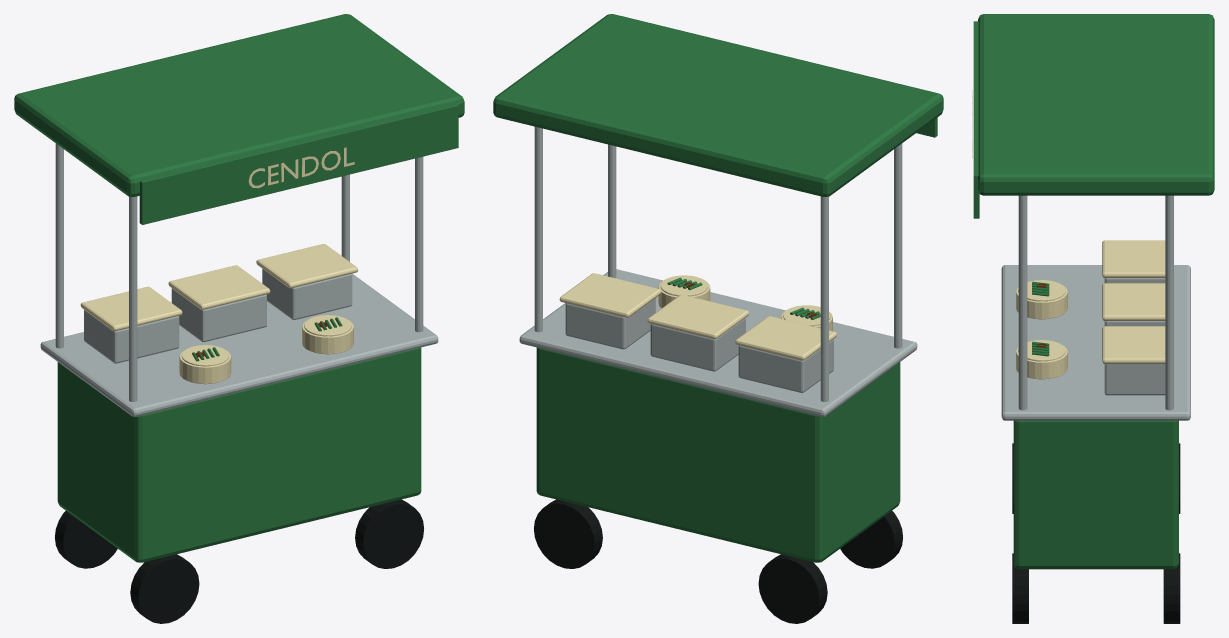
Rendered from edited.glb.
The picture shows the model from 3 angles, left to right: view 1: azimuth 30°, elevation 25°; view 2: azimuth 150°, elevation 25°; view 3: azimuth 270°, elevation 25°; orthographic projection.
Visible parts, largest first — view 1: CART_Cabinet, CANOPY_Roof, COUNTER_Surface, SIGN_Front, WHEEL_Rubber, WHEEL_Rubber.002, BIN_Ingredient.002, BIN_Ingredient.001, BIN_Ingredient, LID_Ingredient.001, LID_Ingredient.002, LID_Ingredient (+10 smaller); view 2: CART_Cabinet, CANOPY_Roof, COUNTER_Surface, WHEEL_Rubber.001, WHEEL_Rubber.003, BIN_Ingredient.002, BIN_Ingredient.001, BIN_Ingredient, LID_Ingredient.001, LID_Ingredient.002, LID_Ingredient, WHEEL_Rubber (+5 smaller); view 3: CANOPY_Roof, CART_Cabinet, COUNTER_Surface, LID_Ingredient, LID_Ingredient.001, LID_Ingredient.002, CANOPY_Post.003, BIN_Ingredient, CANOPY_Post, SIGN_Front, WHEEL_Rubber.003, WHEEL_Rubber.002 (+6 smaller).
Boxes of the visible parts, x1,y1,x2,y2 form: CART_Cabinet: (57,347,421,562); CANOPY_Roof: (14,14,464,196); COUNTER_Surface: (40,273,438,416); SIGN_Front: (139,103,458,224); WHEEL_Rubber: (130,554,199,623); WHEEL_Rubber.002: (355,499,423,568); BIN_Ingredient.002: (171,288,266,342); BIN_Ingredient.001: (84,310,179,363); BIN_Ingredient: (262,269,352,319); LID_Ingredient.001: (168,265,270,309); LID_Ingredient.002: (256,244,358,288); LID_Ingredient: (80,286,182,331); CART_Cabinet: (536,347,900,562); CANOPY_Roof: (493,14,943,196); COUNTER_Surface: (519,269,917,416); WHEEL_Rubber.001: (758,554,827,623); WHEEL_Rubber.003: (534,499,602,568); BIN_Ingredient.002: (650,318,745,371); BIN_Ingredient.001: (738,339,833,392); BIN_Ingredient: (565,298,655,349); LID_Ingredient.001: (647,294,749,339); LID_Ingredient.002: (559,273,661,317); LID_Ingredient: (735,316,837,360); WHEEL_Rubber: (840,511,902,568); CANOPY_Roof: (978,14,1214,195); CART_Cabinet: (1013,420,1178,569); COUNTER_Surface: (1001,265,1190,420); LID_Ingredient: (1102,240,1165,277); LID_Ingredient.001: (1102,283,1165,320); LID_Ingredient.002: (1102,326,1165,363); CANOPY_Post.003: (1018,195,1027,410); BIN_Ingredient: (1104,364,1165,395); CANOPY_Post: (1165,195,1173,410); SIGN_Front: (973,21,979,218); WHEEL_Rubber.003: (1163,553,1180,623); WHEEL_Rubber.002: (1012,553,1028,623).
Bounding box in the file's own units: 1.65 × 2.2 × 1.02.
